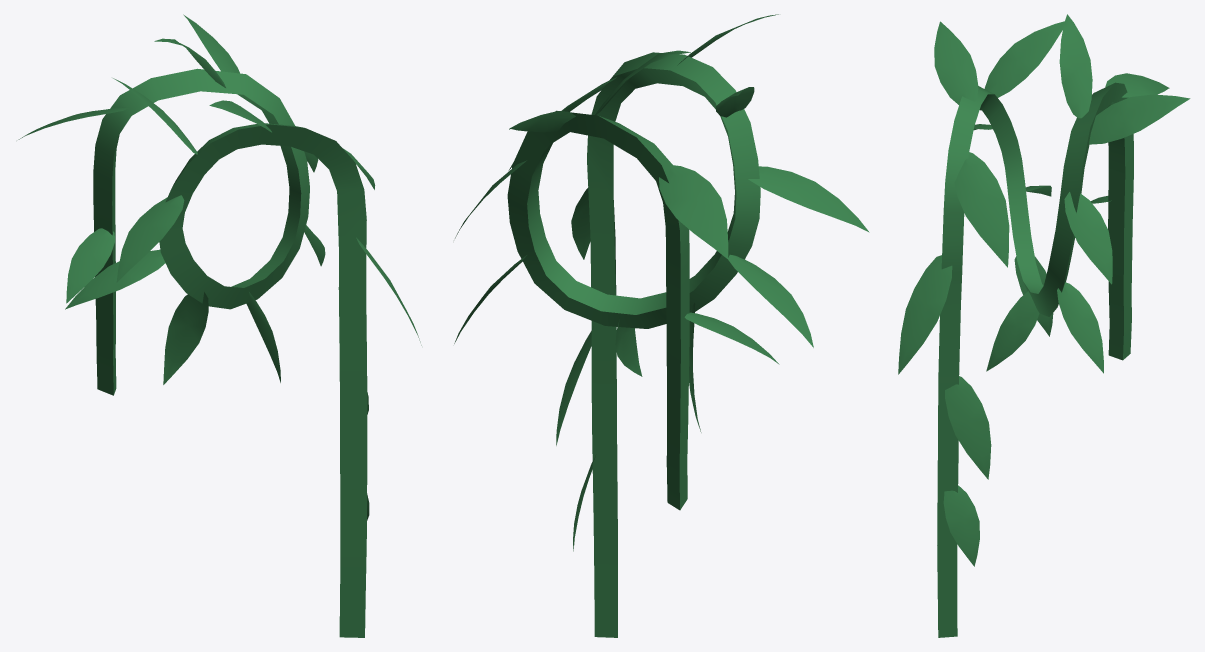
The model's file is vine_P_scanden.fbx.
The picture shows the model from 3 angles, left to right: view 1: azimuth 30°, elevation 25°; view 2: azimuth 150°, elevation 25°; view 3: azimuth 270°, elevation 25°; orthographic projection. The views are drawn at different scales.
Visible parts, largest first — view 1: vine_P_scanden_root, vine_P_scanden_A_leaf_A73, vine_P_scanden_A_leaf_A77, vine_P_scanden_A_leaf_A81, vine_P_scanden_A_leaf_A, vine_P_scanden_A_leaf_A79, vine_P_scanden_A_leaf_A75, vine_P_scanden_A_leaf_A82; view 2: vine_P_scanden_root, vine_P_scanden_A_leaf_A74, vine_P_scanden_A_leaf_A77, vine_P_scanden_A_leaf_A, vine_P_scanden_A_leaf_A81, vine_P_scanden_A_leaf_A84, vine_P_scanden_A_leaf_A80, vine_P_scanden_A_leaf_A75, vine_P_scanden_A_leaf_A79, vine_P_scanden_A_leaf_A82; view 3: vine_P_scanden_root, vine_P_scanden_A_leaf_A76, vine_P_scanden_A_leaf_A84, vine_P_scanden_A_leaf_A79, vine_P_scanden_A_leaf_A80, vine_P_scanden_A_leaf_A82, vine_P_scanden_A_leaf_A78, vine_P_scanden_A_leaf_A70, vine_P_scanden_A_leaf_A72, vine_P_scanden_A_leaf_A83, vine_P_scanden_A_leaf_A75, vine_P_scanden_A_leaf_A71 (+2 smaller).
Part boxes in pixels (box(x1,y1,x2,y2)): vine_P_scanden_root: box(93, 68, 367, 637); vine_P_scanden_A_leaf_A73: box(163, 292, 208, 384); vine_P_scanden_A_leaf_A77: box(116, 195, 184, 282); vine_P_scanden_A_leaf_A81: box(66, 228, 114, 303); vine_P_scanden_A_leaf_A: box(65, 249, 165, 309); vine_P_scanden_A_leaf_A79: box(183, 14, 239, 73); vine_P_scanden_A_leaf_A75: box(246, 292, 280, 382); vine_P_scanden_A_leaf_A82: box(113, 78, 197, 154); vine_P_scanden_root: box(507, 52, 760, 637); vine_P_scanden_A_leaf_A74: box(659, 165, 728, 259); vine_P_scanden_A_leaf_A77: box(748, 166, 869, 232); vine_P_scanden_A_leaf_A: box(728, 254, 813, 347); vine_P_scanden_A_leaf_A81: box(684, 312, 779, 364); vine_P_scanden_A_leaf_A84: box(571, 187, 590, 259); vine_P_scanden_A_leaf_A80: box(556, 328, 592, 445); vine_P_scanden_A_leaf_A75: box(615, 319, 642, 376); vine_P_scanden_A_leaf_A79: box(509, 111, 575, 132); vine_P_scanden_A_leaf_A82: box(715, 87, 754, 117); vine_P_scanden_root: box(937, 82, 1133, 637); vine_P_scanden_A_leaf_A76: box(954, 152, 1009, 267); vine_P_scanden_A_leaf_A84: box(898, 255, 952, 374); vine_P_scanden_A_leaf_A79: box(1089, 94, 1190, 144); vine_P_scanden_A_leaf_A80: box(945, 376, 991, 479); vine_P_scanden_A_leaf_A82: box(984, 21, 1064, 97); vine_P_scanden_A_leaf_A78: box(1059, 14, 1092, 118); vine_P_scanden_A_leaf_A70: box(934, 21, 978, 104); vine_P_scanden_A_leaf_A72: box(1064, 192, 1112, 284); vine_P_scanden_A_leaf_A83: box(1057, 282, 1103, 373); vine_P_scanden_A_leaf_A75: box(986, 291, 1039, 371); vine_P_scanden_A_leaf_A71: box(943, 485, 979, 566).
Bounding box in the file's own units: 58.96 × 114 × 54.36.
